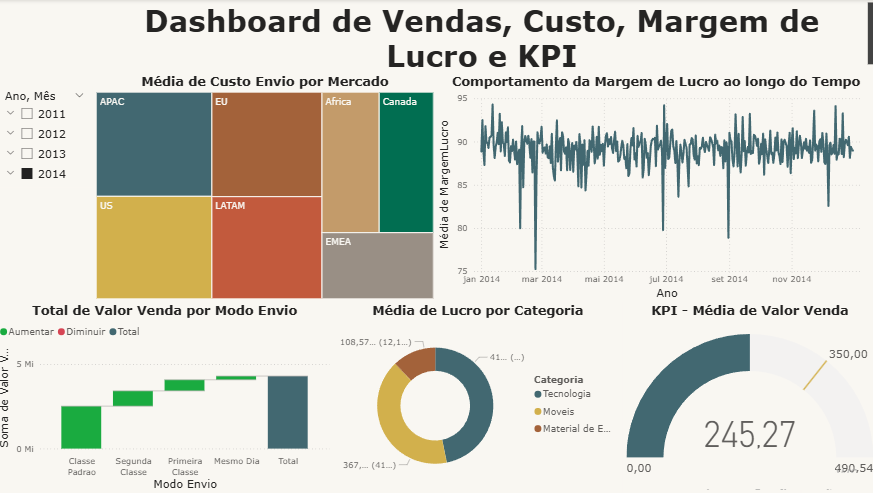

Layout of this report page (visuals, bound fields, positions):
{"tool":"powerbi","page":{"name":"Página 1","canvas":[1280,720],"ordinal":0},"visuals":[{"type":"waterfallChart","title":"Total de Valor Venda por Modo Envio","fields":{"Category":["Pedidos.Modo Envio"],"Y":["Sum(Vendas.Valor Venda)"]},"box":[0,440.5,490.5,278.6],"z":0},{"type":"treemap","fields":{"Group":["Clientes.Mercado"],"Values":["Avg(Vendas.Custo Envio)"]},"box":[140.5,107.1,500,333.3],"z":1},{"type":"gauge","title":"KPI - Média de Valor Venda","fields":{"Y":["Avg(Vendas.Valor Venda)"]},"box":[911.9,440.5,369,278.6],"z":2},{"type":"slicer","fields":{"Values":["Pedidos.Data Pedido.Variation.Hierarquia de datas.Ano","Pedidos.Data Pedido.Variation.Hierarquia de datas.Mês"]},"box":[0,126.2,140.5,147.6],"z":3},{"type":"donutChart","fields":{"Category":["Produtos.Categoria"],"Y":["Avg(Vendas.Lucro)"]},"box":[490.5,440.5,421.4,278.6],"z":4},{"type":"lineChart","title":"Comportamento da Margem de Lucro ao longo do Tempo","fields":{"Y":["Avg(Vendas.MargemLucro)"],"Category":["Pedidos.Data Pedido.Variation.Hierarquia de datas.Ano","Pedidos.Data Pedido.Variation.Hierarquia de datas.Trimestre","Pedidos.Data Pedido.Variation.Hierarquia de datas.Mês","Pedidos.Data Pedido.Variation.Hierarquia de datas.Dia"]},"box":[640.5,107.1,640.5,333.3],"z":5},{"type":"textbox","box":[140.5,0,1140.5,107.1],"z":6}]}

Visuals, with their boxes in screenshot pixels (x1, y1, x2, y2), scaled from the page's 1280x720 canvas onto the 873x493 screenshot:
"Total de Valor Venda por Modo Envio" waterfallChart: region(0, 302, 335, 492)
treemap - Clientes.Mercado x Avg(Vendas.Custo Envio): region(96, 73, 437, 302)
"KPI - Média de Valor Venda" gauge: region(622, 302, 872, 492)
slicer - Pedidos.Data Pedido.Variation.Hierarquia de datas.Ano x Pedidos.Data Pedido.Variation.Hierarquia de datas.Mês: region(0, 86, 96, 187)
donutChart - Produtos.Categoria x Avg(Vendas.Lucro): region(335, 302, 622, 492)
"Comportamento da Margem de Lucro ao longo do Tempo" lineChart: region(437, 73, 872, 302)
textbox: region(96, 0, 872, 73)
